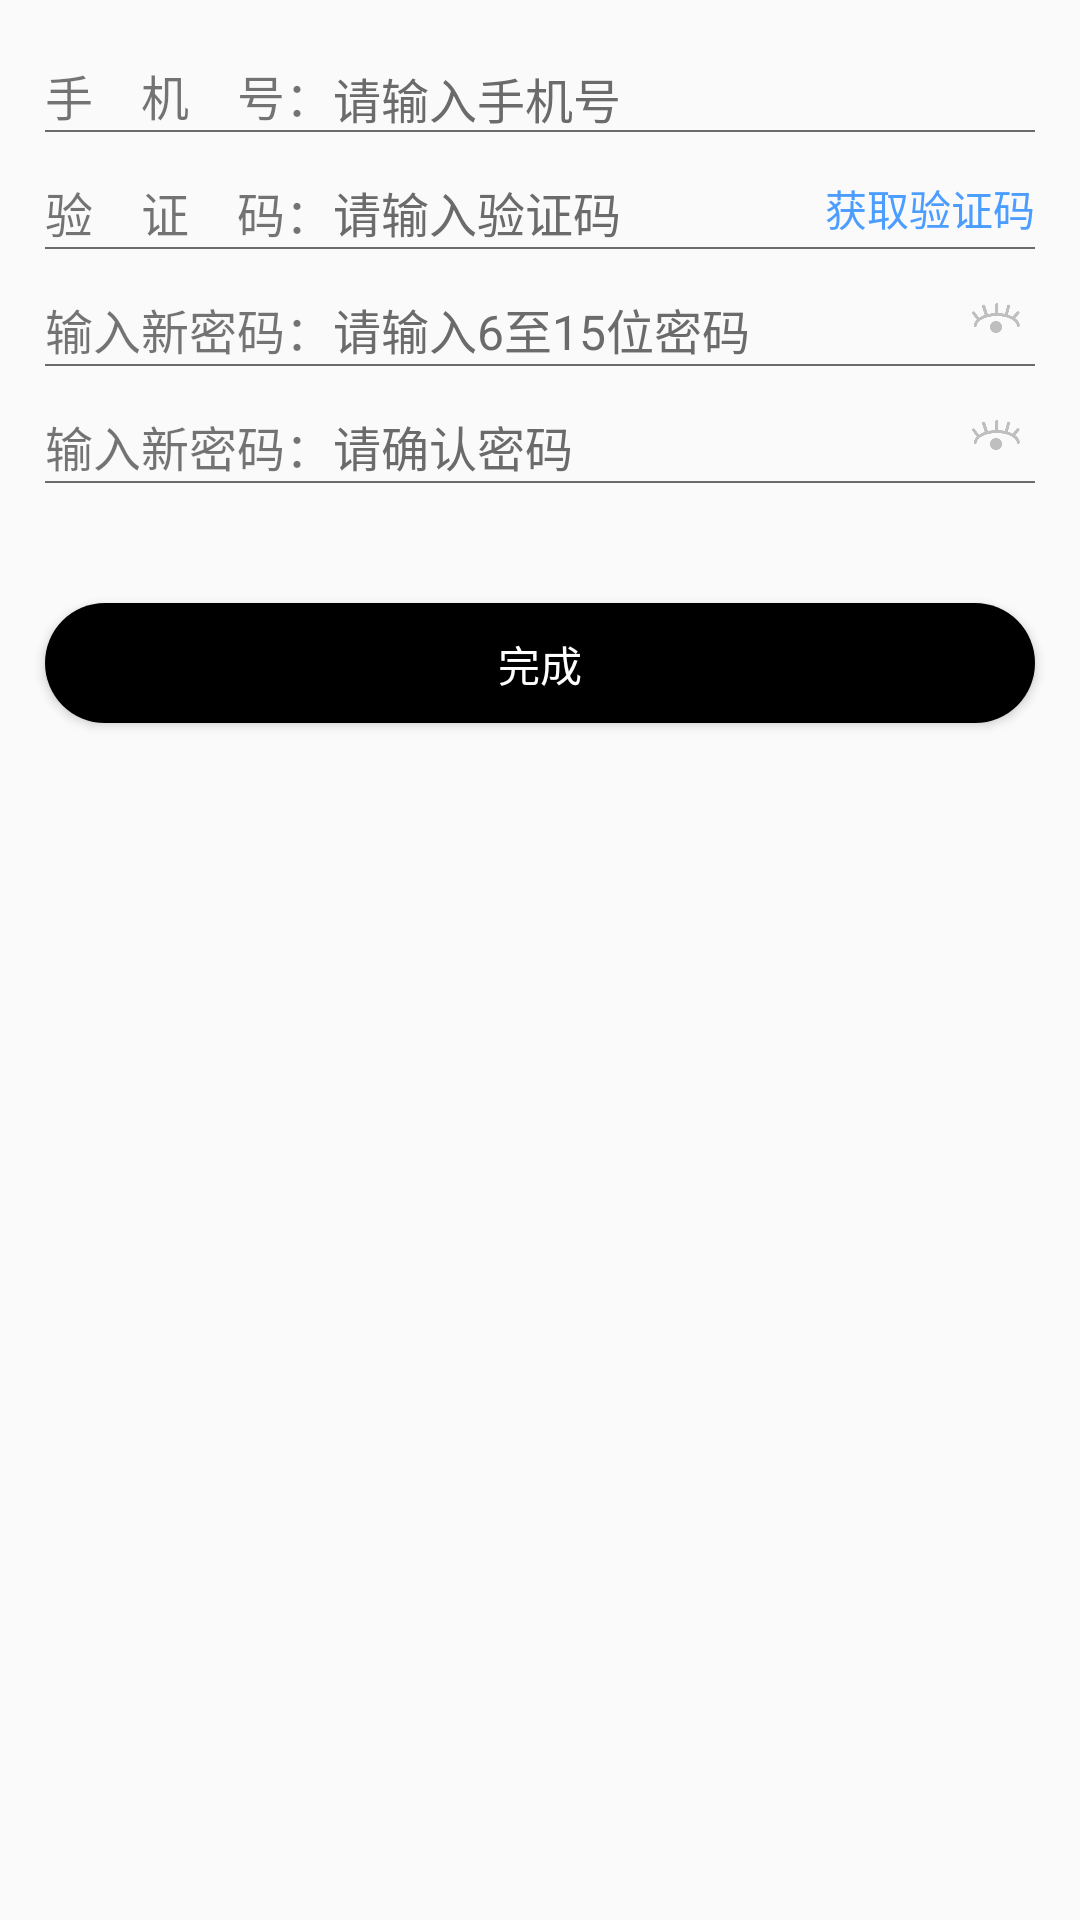

Screen size 1080px×1920px. Icon name, then its center in pixels as (x,y):
ed show: (996,318), (996,435)
